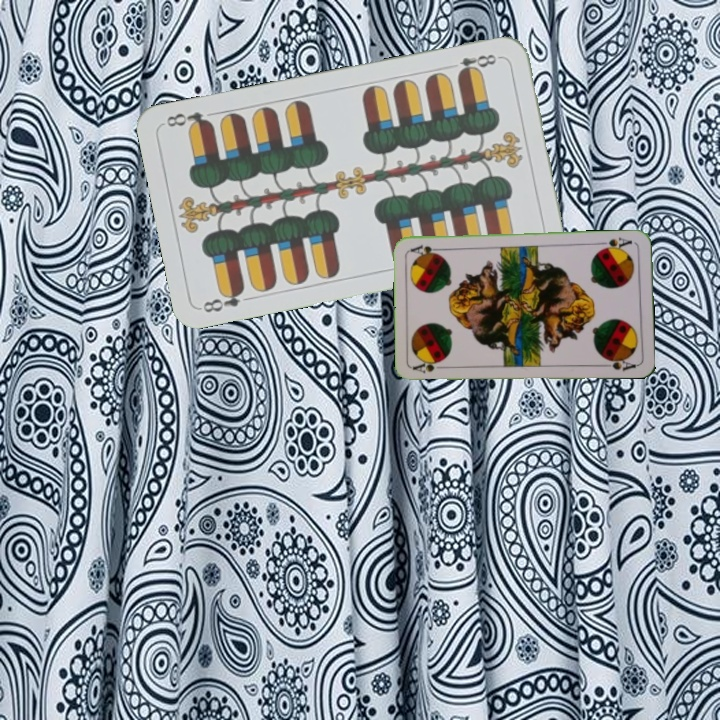E8: (199, 283, 247, 316), (453, 50, 503, 78)
SA: (596, 233, 635, 253), (409, 357, 450, 376)
